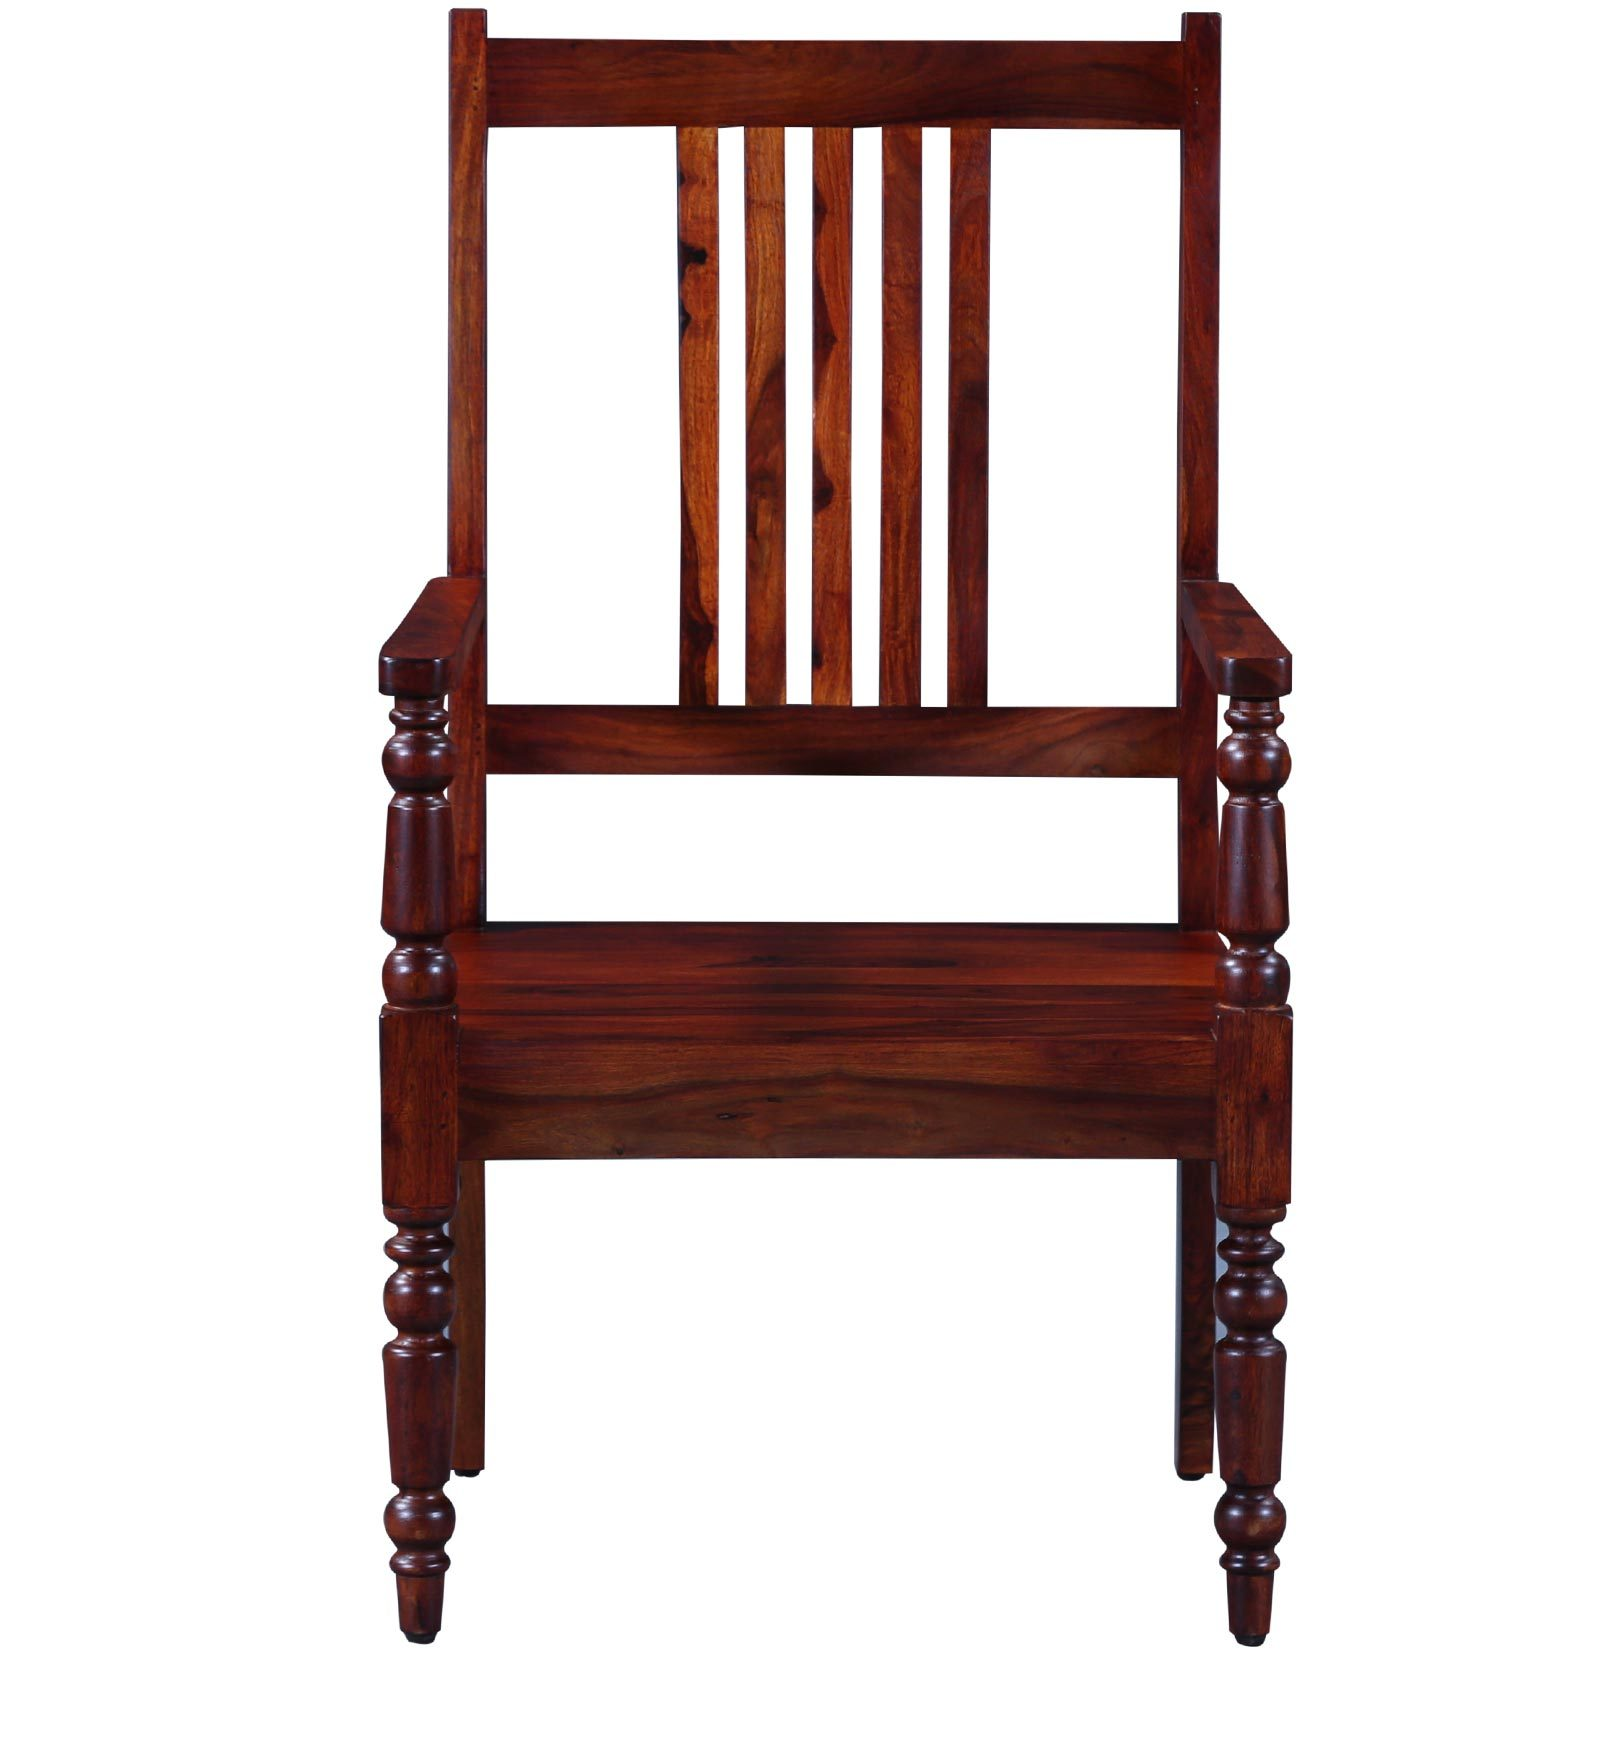Harleston Arm Chair in Honey Oak Finish by Amberville: (331, 8, 1333, 1674)
